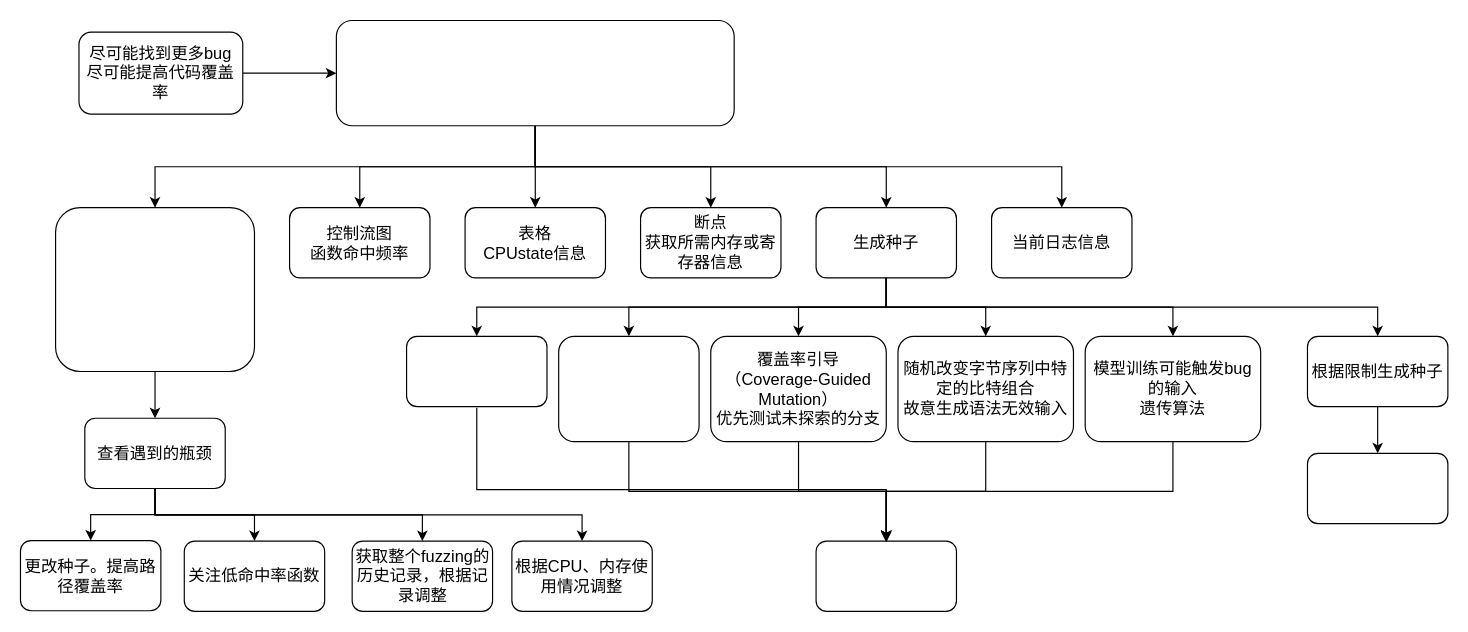
This 1468x632 diagram has some shape labels left out. Here are the shapes that lost their labels. From the top down, the centre of each, then its label:
At point 534,72: "允许 交互式 调整 和 检查 模糊 测试 结果 。 在 交互 历史记录 中 可视化 调整 和 输出 更改 之间的关系。".
At point 154,289: "力导向图（或path-growing graphs） 绘制种子的实际执行路径。 记录 探索执行路径的能力和平均执行时间".
At point 476,371: "随机修改 字节反转 插入/删除字节".
At point 628,388: "字段替代 删除字段 同义替换 插入空格或注释".
At point 1377,488: "执行特定路径".
At point 885,575: "生成全新的种子".
